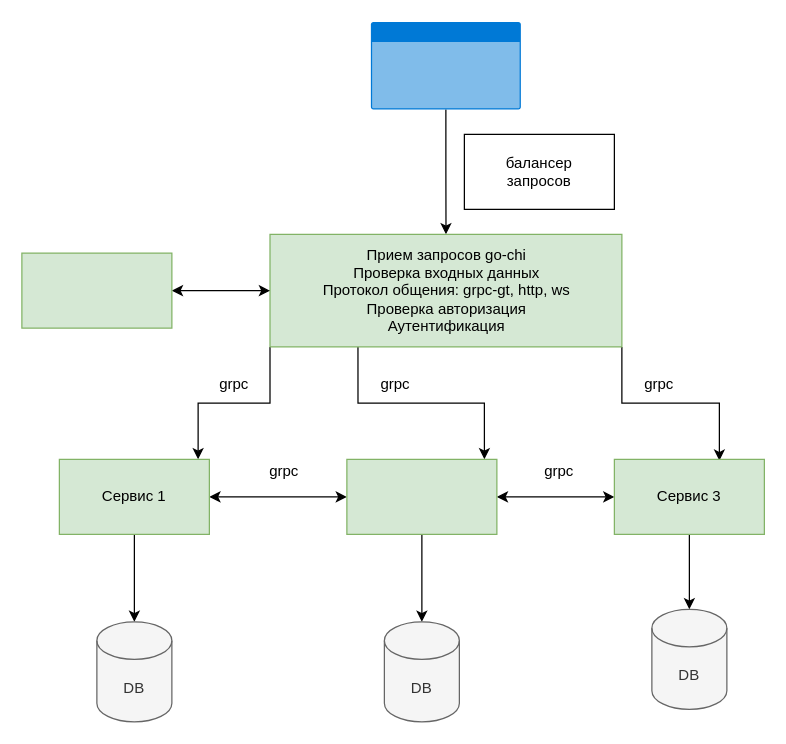
This 786x744 diagram has some shape labels left out. The box of each missing label's shape, as (x1, y1, x2, y2) in pixels:
FRONT: (370, 21, 520, 109)
Авторизация: (21, 252, 172, 328)
Сервис 2: (346, 458, 497, 534)
